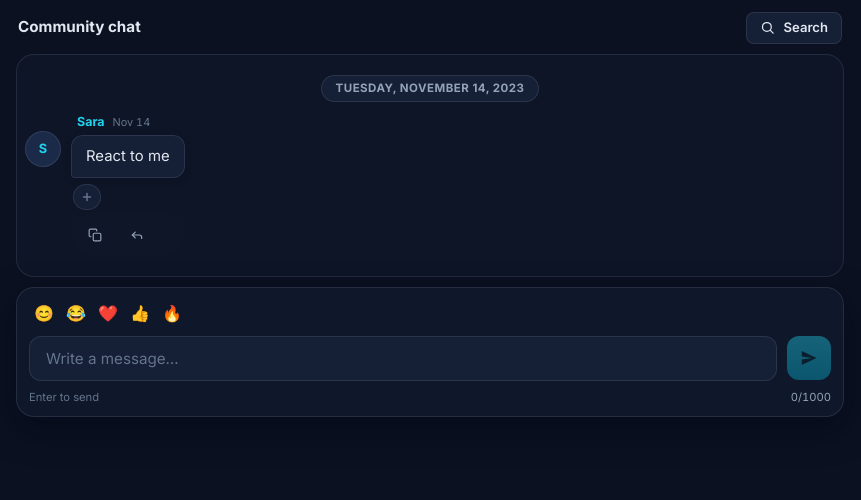
it: ChatRoom › reactions › surfaces a failed reaction
What coordinates should you click on to do the following:
click the button named "Add a reaction"
I would click on:
 (87, 197)
Its box is [73,184,101,210].
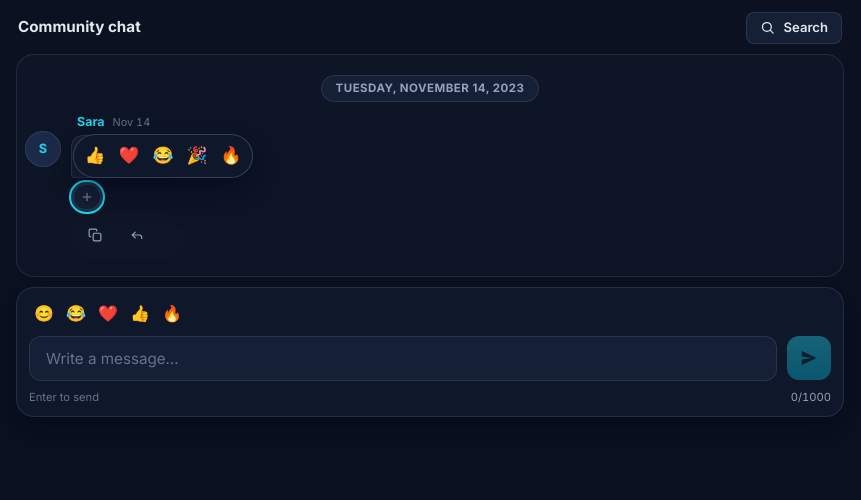
What coordinates should you click on to do the following:
click the button named "React with 🔥"
I would click on:
 (231, 156)
Its box is [215,140,247,172].
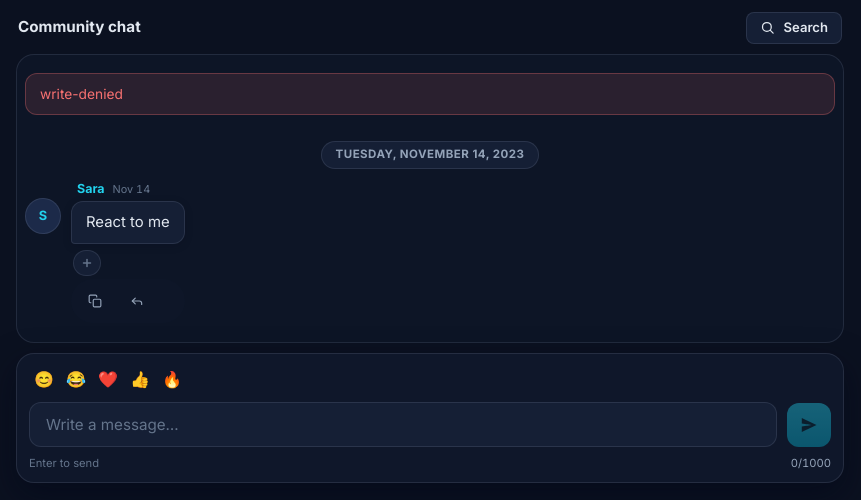
Expected: the message reads "write-denied", [40,86,123,102]
